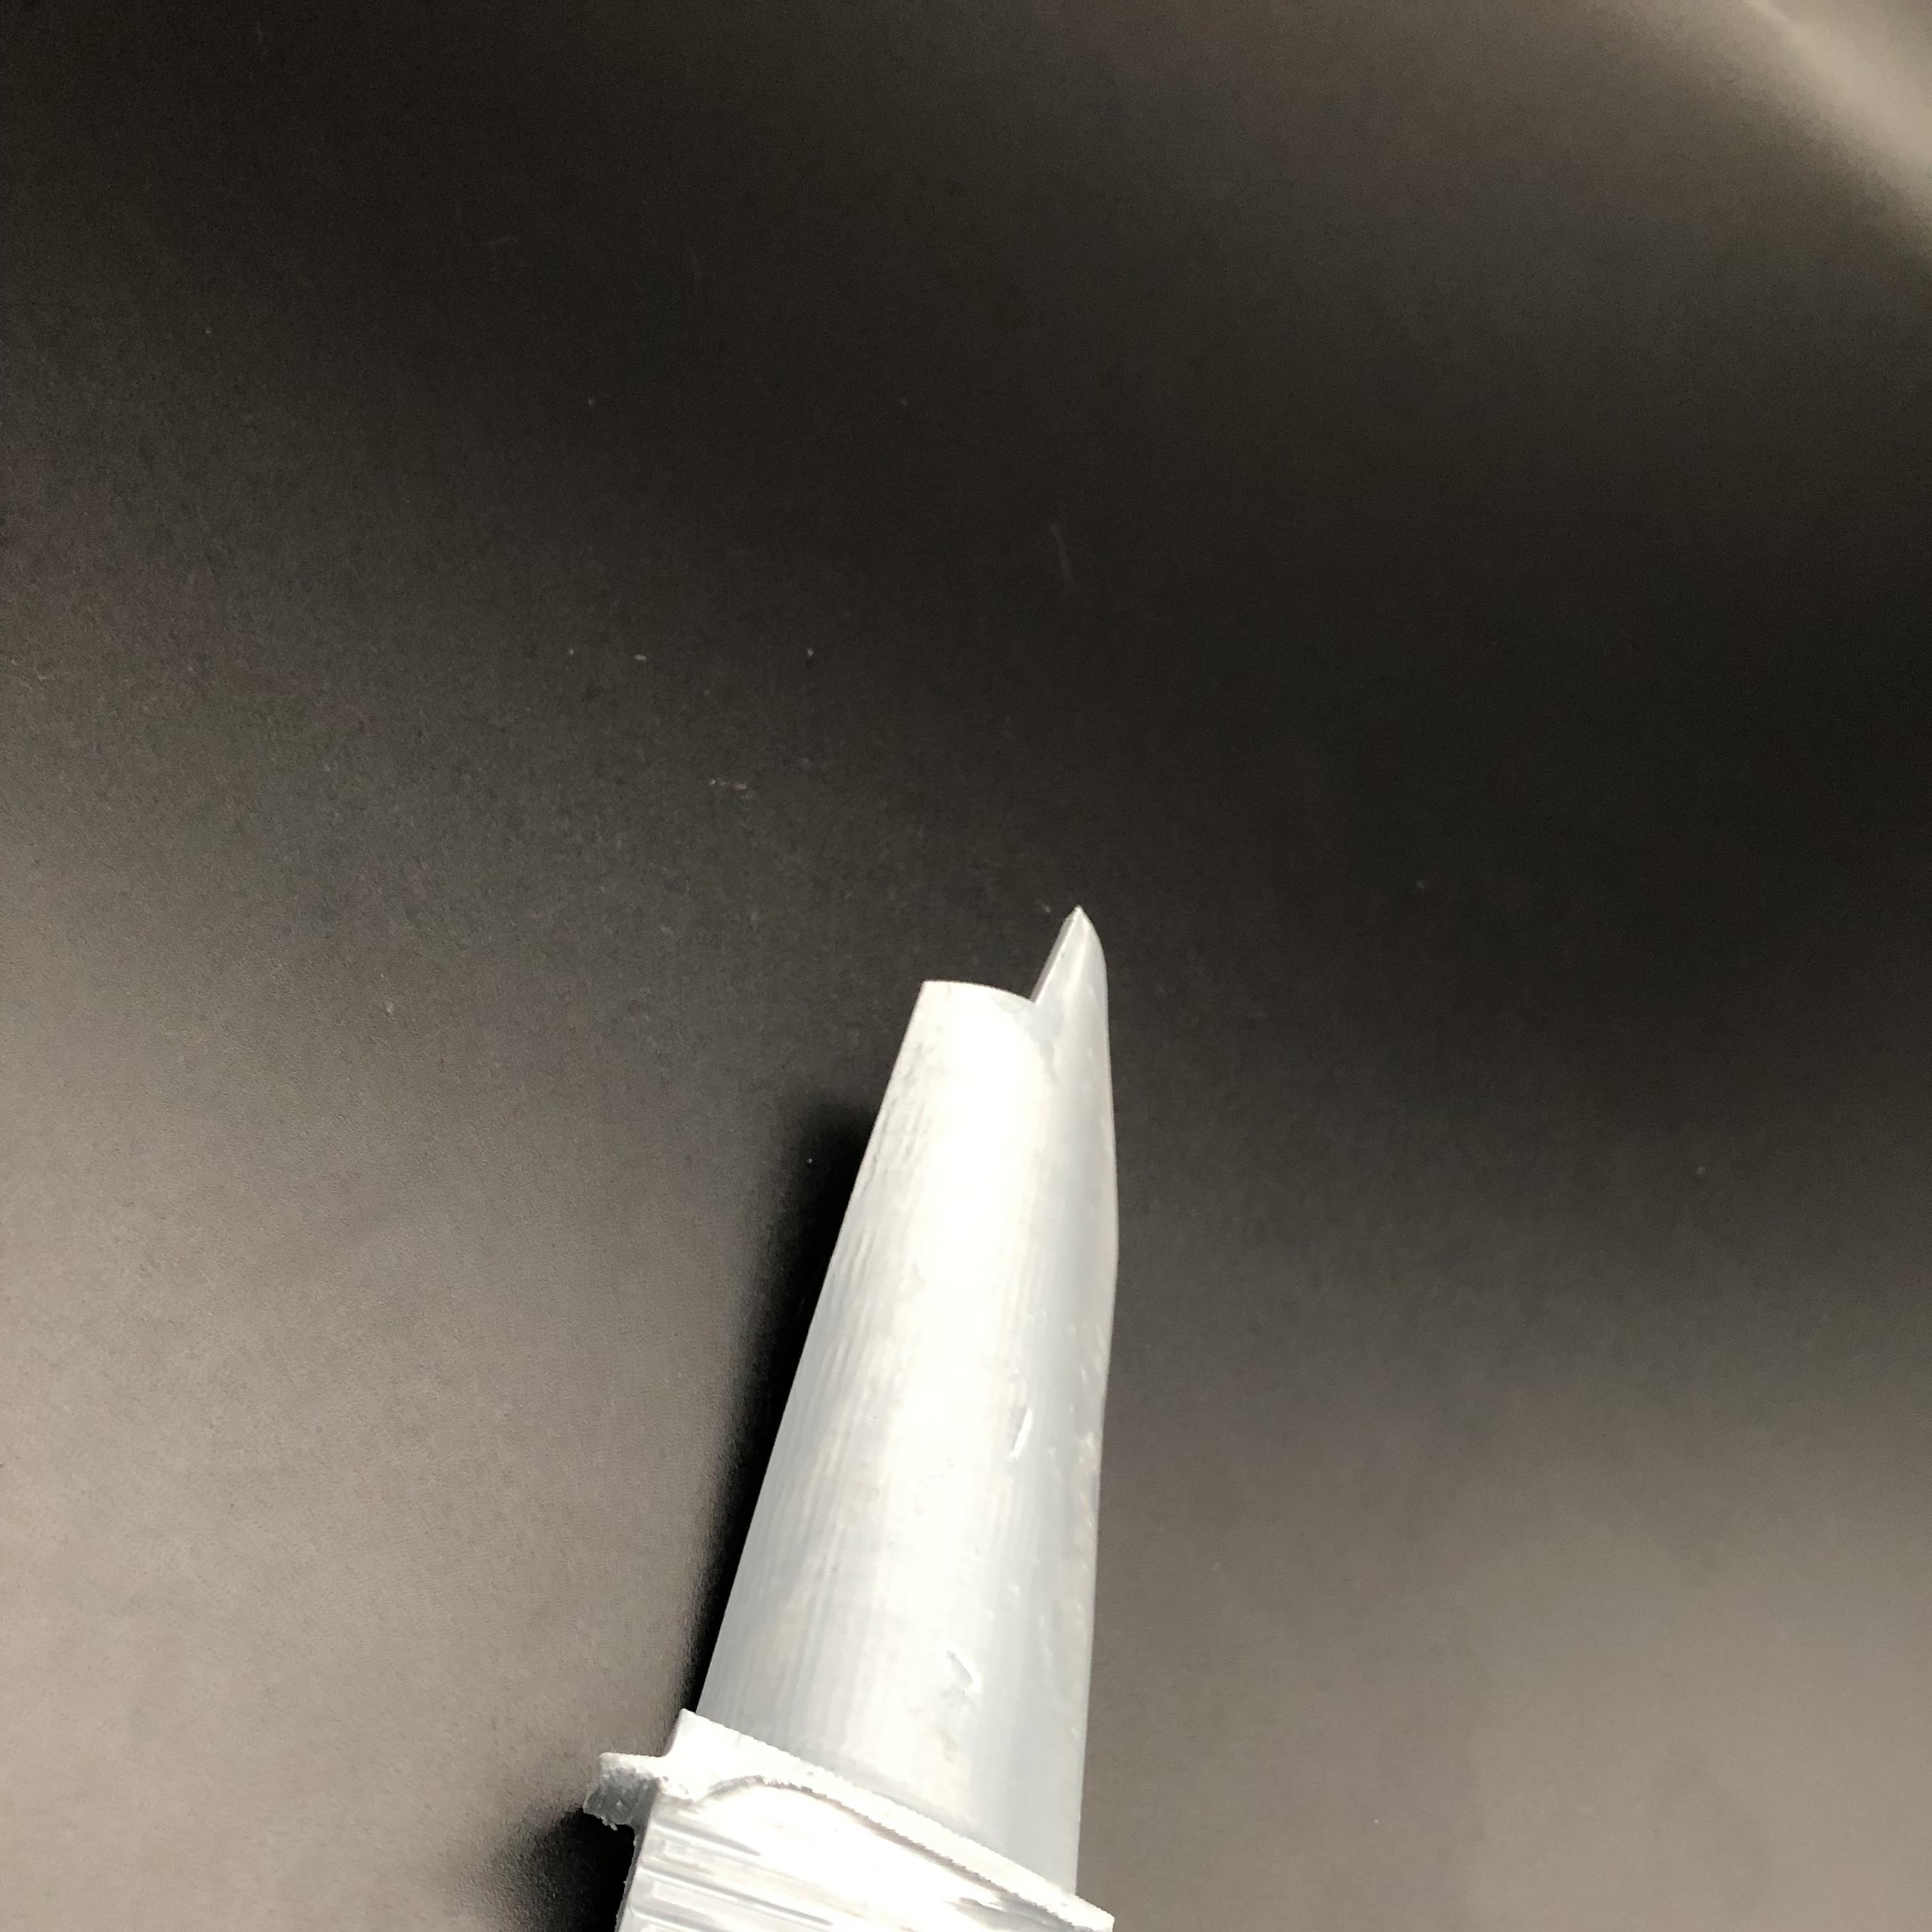fracture: (925, 895, 1088, 1019)
